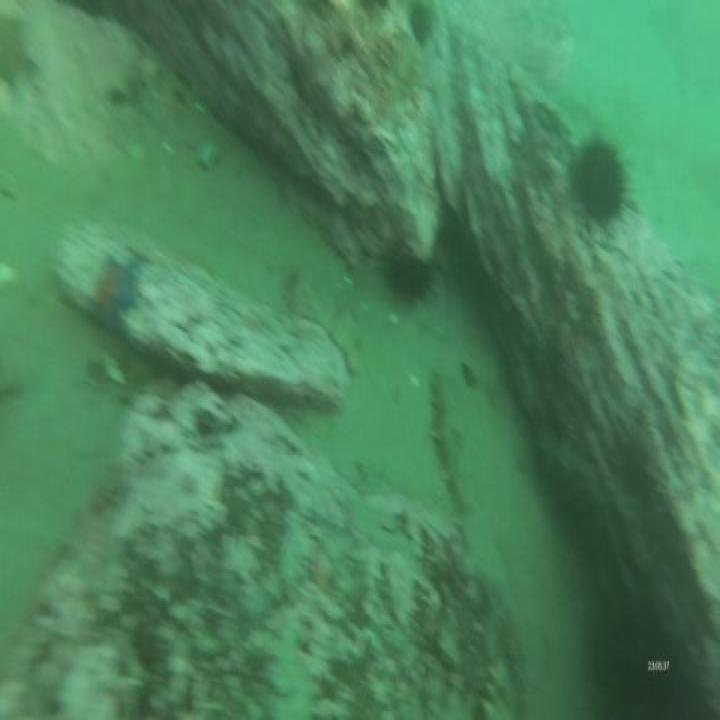echinus: (567, 135, 626, 229), (388, 240, 436, 308)
holothurian: (430, 370, 478, 516)
starfish: (92, 254, 139, 324)
